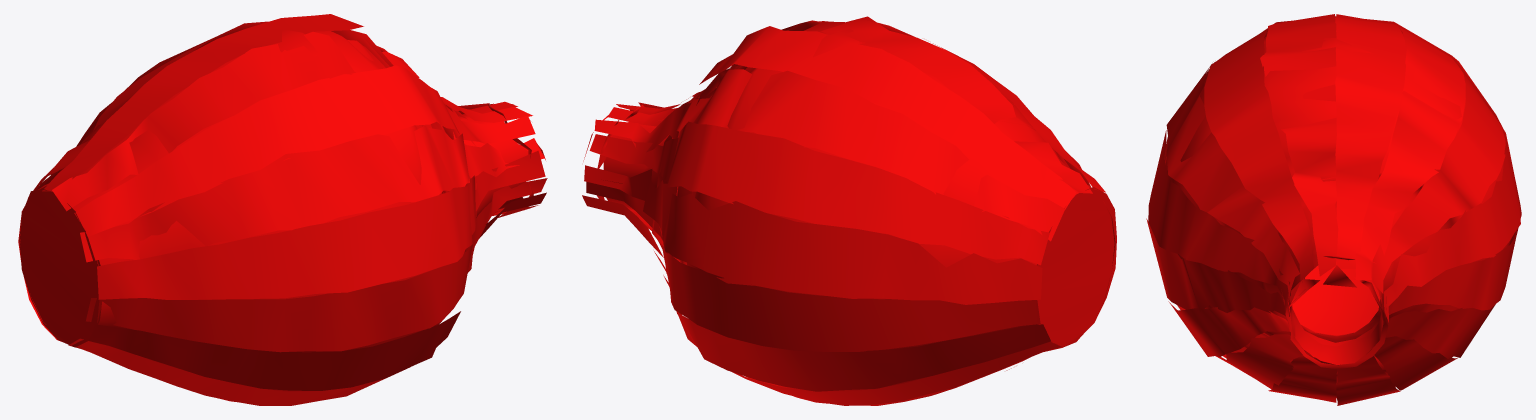
The picture shows the model from 3 angles, left to right: view 1: azimuth 30°, elevation 25°; view 2: azimuth 150°, elevation 25°; view 3: azimuth 270°, elevation 25°; orthographic projection. The views are drawn at different scales.
Parts seen in each view (by area): view 1: Renderer Node; view 2: Renderer Node; view 3: Renderer Node.
Boxes of the visible parts, x1,y1,x2,y2 form: Renderer Node: (18,14,547,405); Renderer Node: (582,16,1116,405); Renderer Node: (1146,14,1521,405).
Bounding box in the file's own units: 0.7219 × 0.5136 × 0.5085.
Materials: 1 (1 with a texture image).
